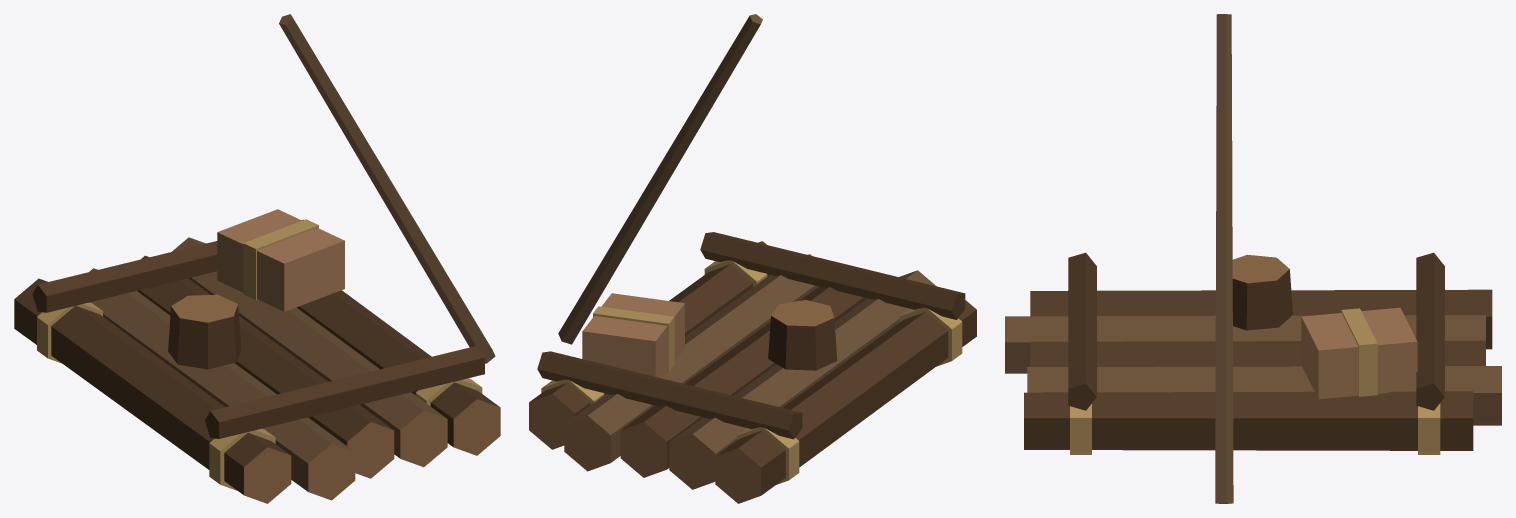
Rendered from raft.glb.
The picture shows the model from 3 angles, left to right: view 1: azimuth 30°, elevation 25°; view 2: azimuth 150°, elevation 25°; view 3: azimuth 270°, elevation 25°; orthographic projection. The views are drawn at different scales.
Parts seen in each view (by area): view 1: raft; view 2: raft; view 3: raft.
Boxes of the visible parts, left/top/right/bottom form: raft: left=14, top=14, right=500, bottom=503; raft: left=529, top=14, right=976, bottom=503; raft: left=1005, top=14, right=1501, bottom=503.
Size of the model in its own units: 1.3 by 1.39 by 1.57.
